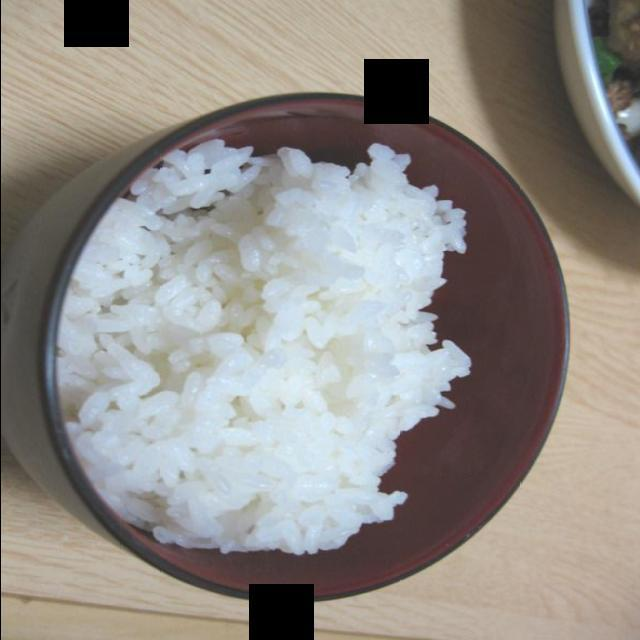rice: (54, 135, 476, 554)
